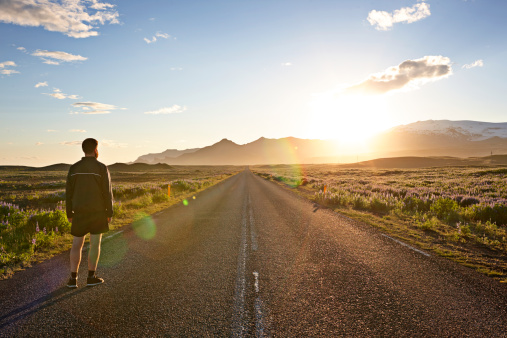em pe: (57, 133, 109, 281)
